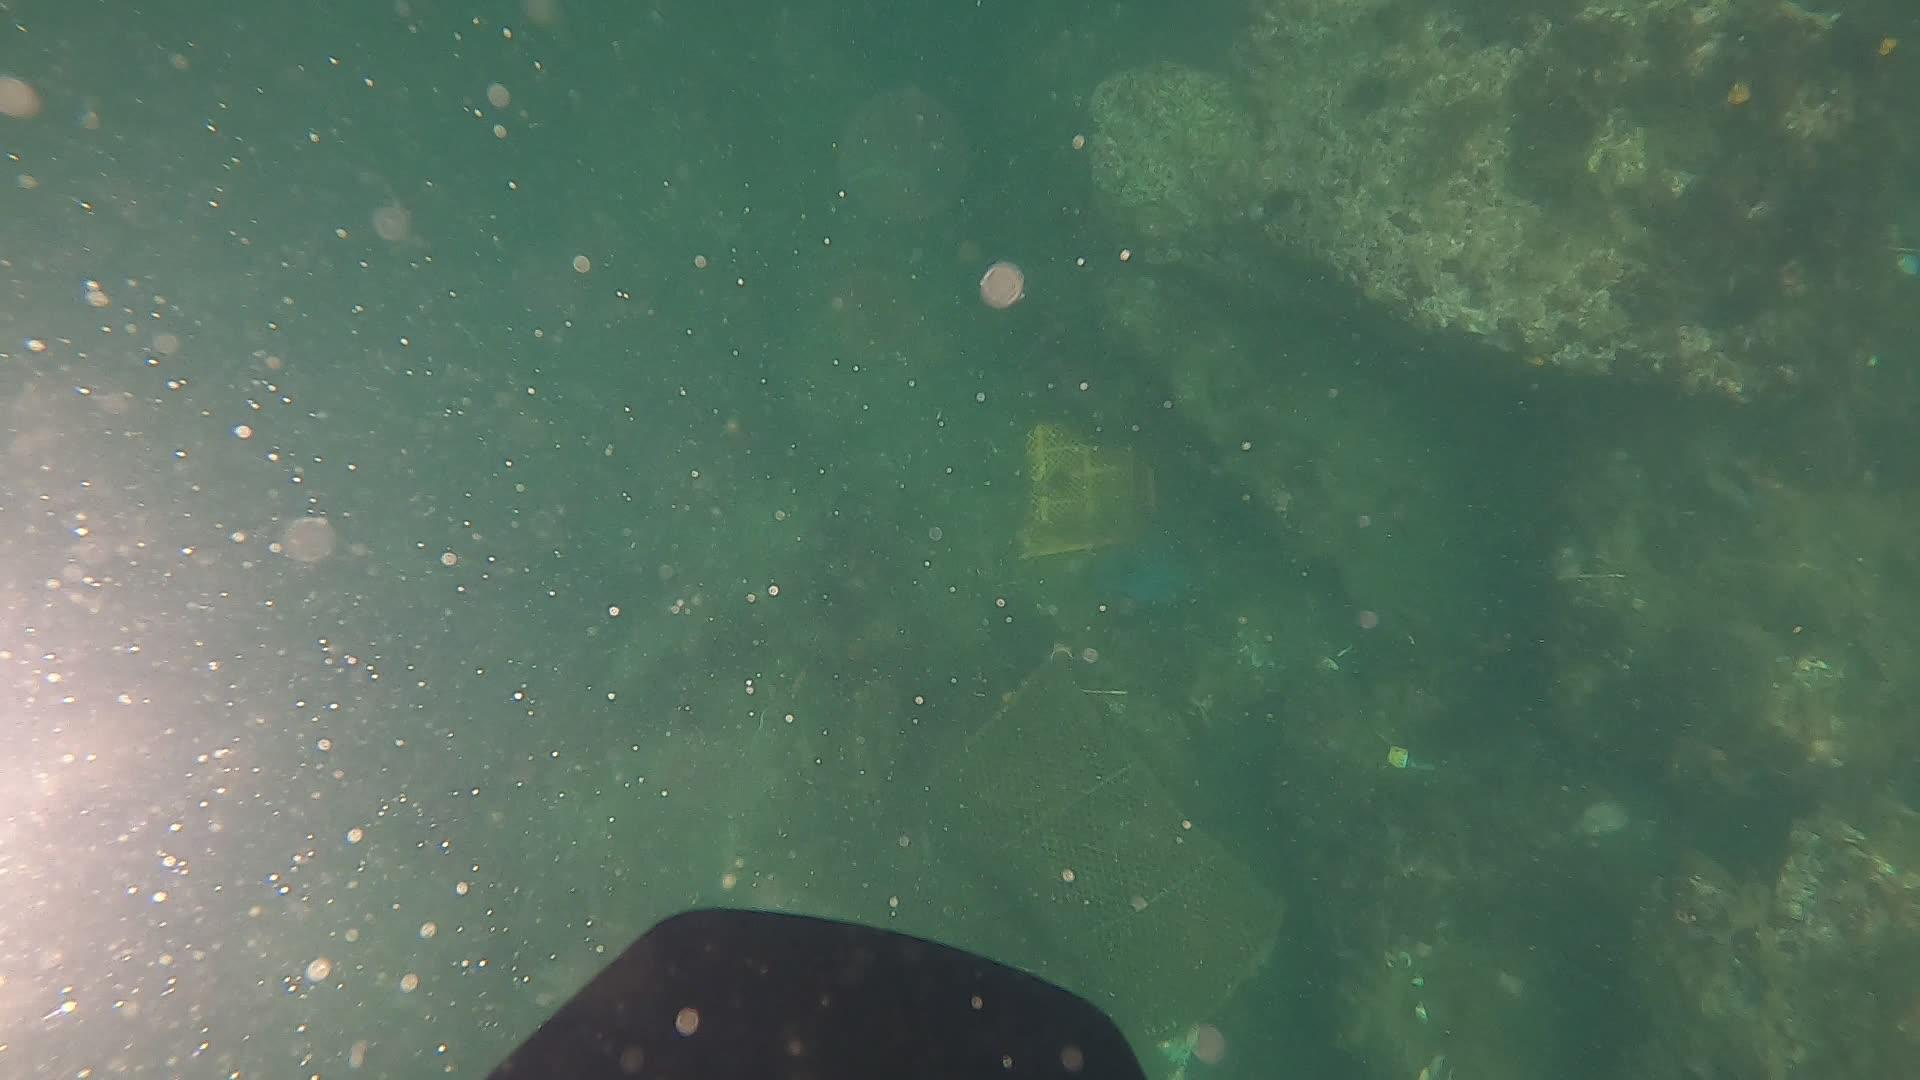spring fish trap: (945, 651, 1284, 1042)
